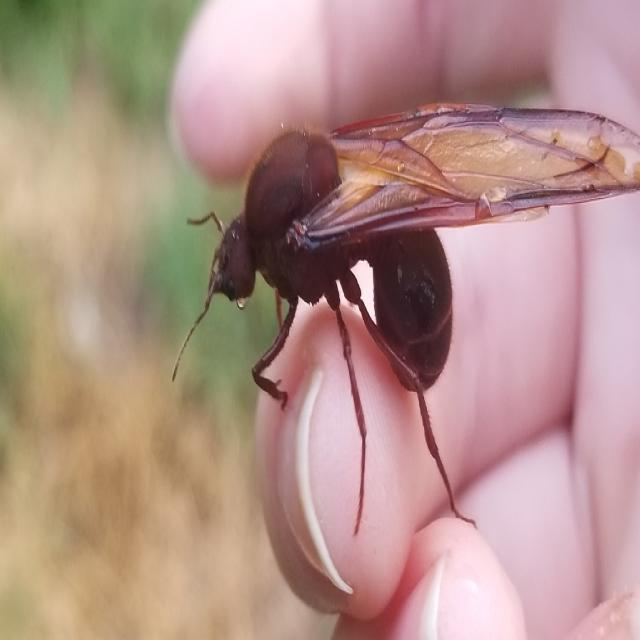Alive-Female-Alate: (172, 103, 640, 538)
